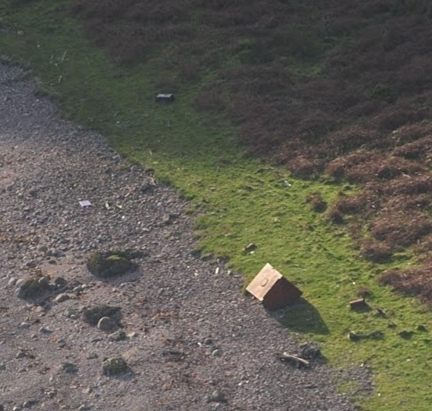cuboid: (242, 258, 309, 317)
white_in_green: (142, 75, 187, 113)
